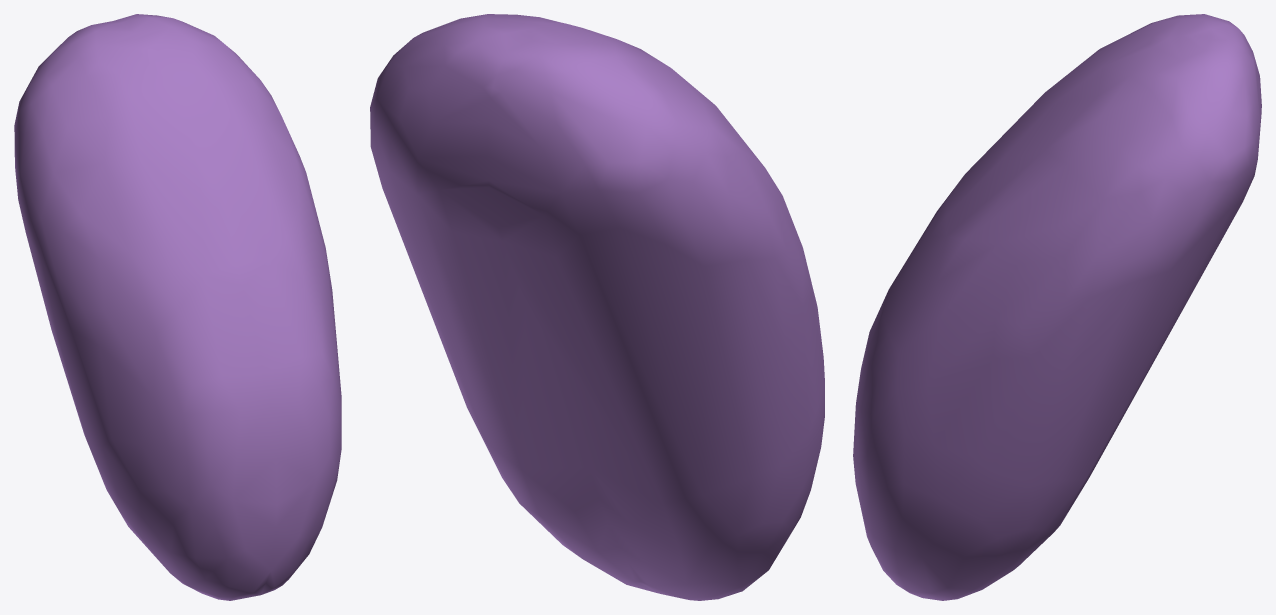
3 views of the same model, side by side, from view 1: azimuth 30°, elevation 25°; view 2: azimuth 150°, elevation 25°; view 3: azimuth 270°, elevation 25° (orthographic). The views are drawn at different scales.
Parts seen in each view (by area): view 1: 松果体; view 2: 松果体; view 3: 松果体.
Part boxes in pixels (<box>): 松果体: <box>14,14,341,600</box>; 松果体: <box>370,14,824,600</box>; 松果体: <box>853,14,1261,600</box>.
Bounding box in the file's own units: 0.00937 × 0.0163 × 0.011.
